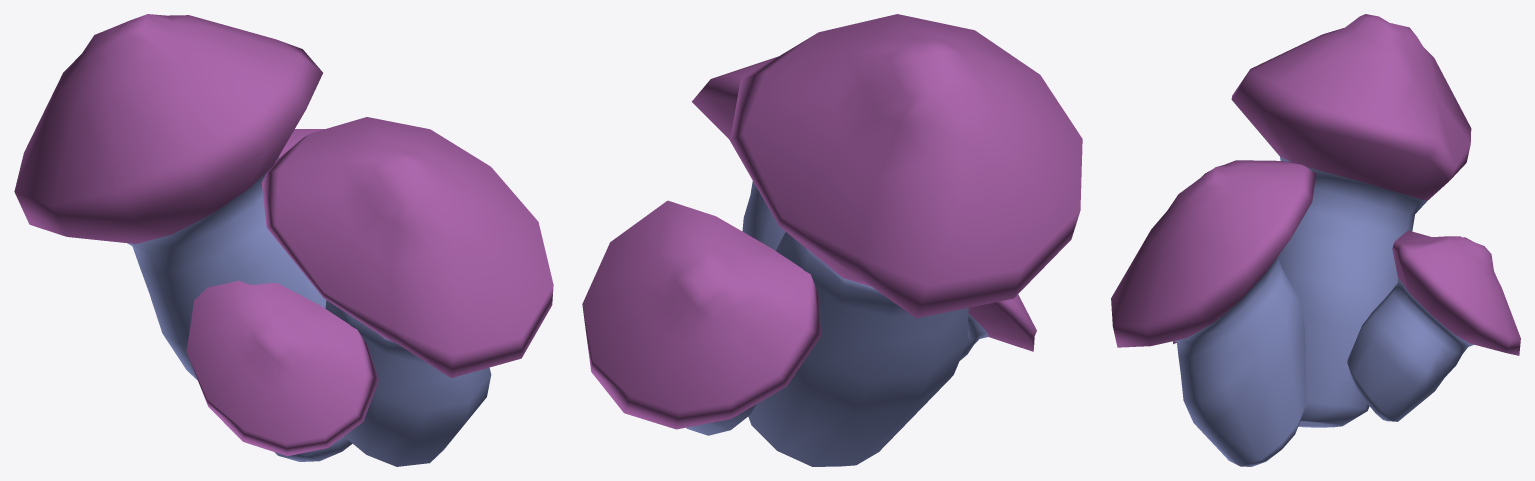
File: mushroom_3.fbx
The picture shows the model from 3 angles, left to right: view 1: azimuth 30°, elevation 25°; view 2: azimuth 150°, elevation 25°; view 3: azimuth 270°, elevation 25°; orthographic projection. The views are drawn at different scales.
Parts seen in each view (by area): view 1: mushroom_ready, mushroom_ready1; view 2: mushroom_ready1, mushroom_ready; view 3: mushroom_ready1, mushroom_ready.
Boxes of the visible parts, left/top/right/bottom form: mushroom_ready: left=186, top=117, right=553, bottom=466; mushroom_ready1: left=14, top=14, right=352, bottom=461; mushroom_ready1: left=582, top=14, right=1082, bottom=466; mushroom_ready: left=692, top=56, right=1036, bottom=360; mushroom_ready1: left=1231, top=14, right=1520, bottom=427; mushroom_ready: left=1111, top=160, right=1316, bottom=466.
Size of the model in its own units: 3.93 by 3.98 by 4.06.
